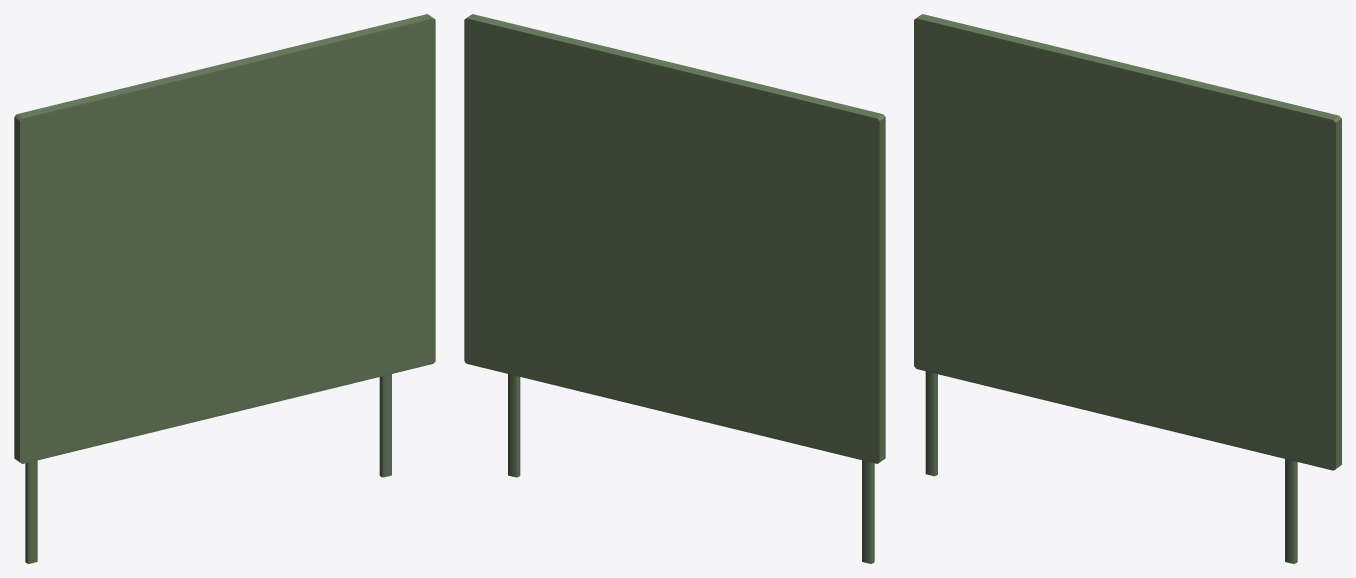
Rendered from Divider_Stall.fbx.
3 renders of one model, left to right at view 1: azimuth 30°, elevation 25°; view 2: azimuth 150°, elevation 25°; view 3: azimuth 330°, elevation 25°, orthographic.
Parts seen in each view (by area): view 1: Divide_1; view 2: Divide_1; view 3: Divide_1.
Part boxes in pixels (x1,y1,x2,y2): Divide_1: [14, 14, 435, 563]; Divide_1: [464, 14, 885, 563]; Divide_1: [914, 14, 1341, 563].
Size of the model in its own units: 164 by 169 by 4.1.
